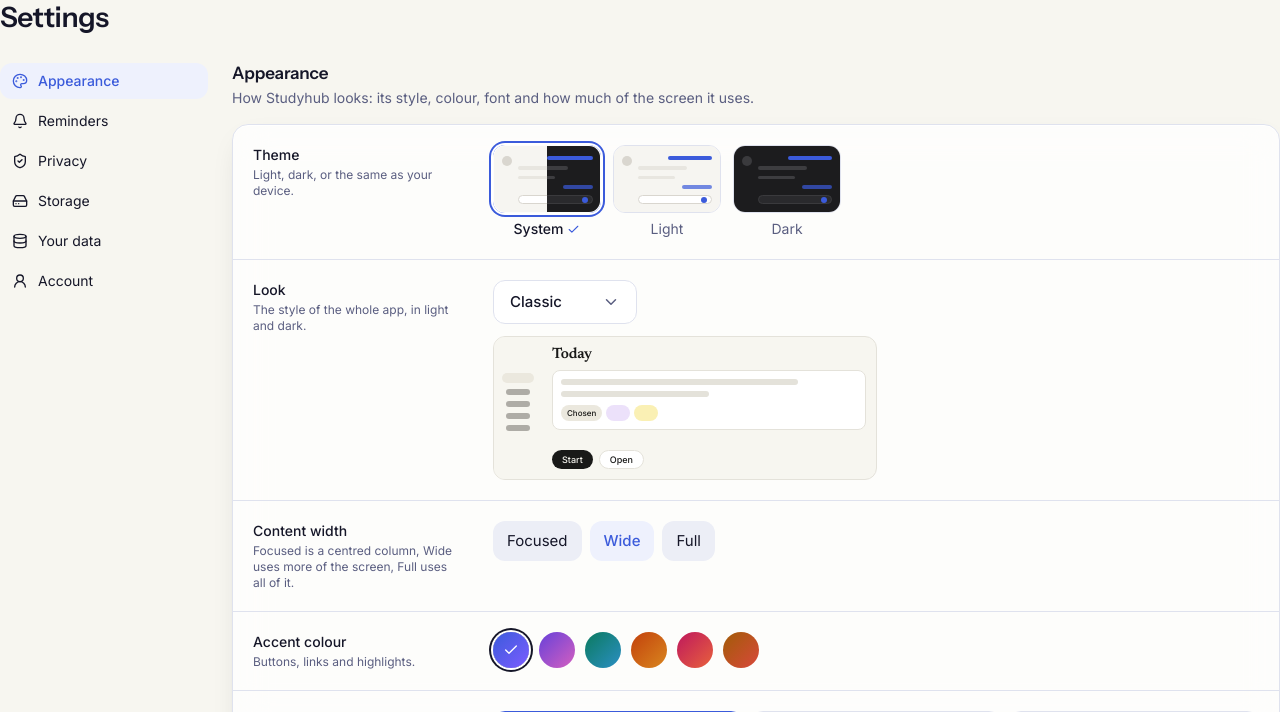
Settings page › has Your data with the download and delete options
The image size is (1280, 712).
Click the button "Your data". click: (104, 241)
box: [0,223,208,259]
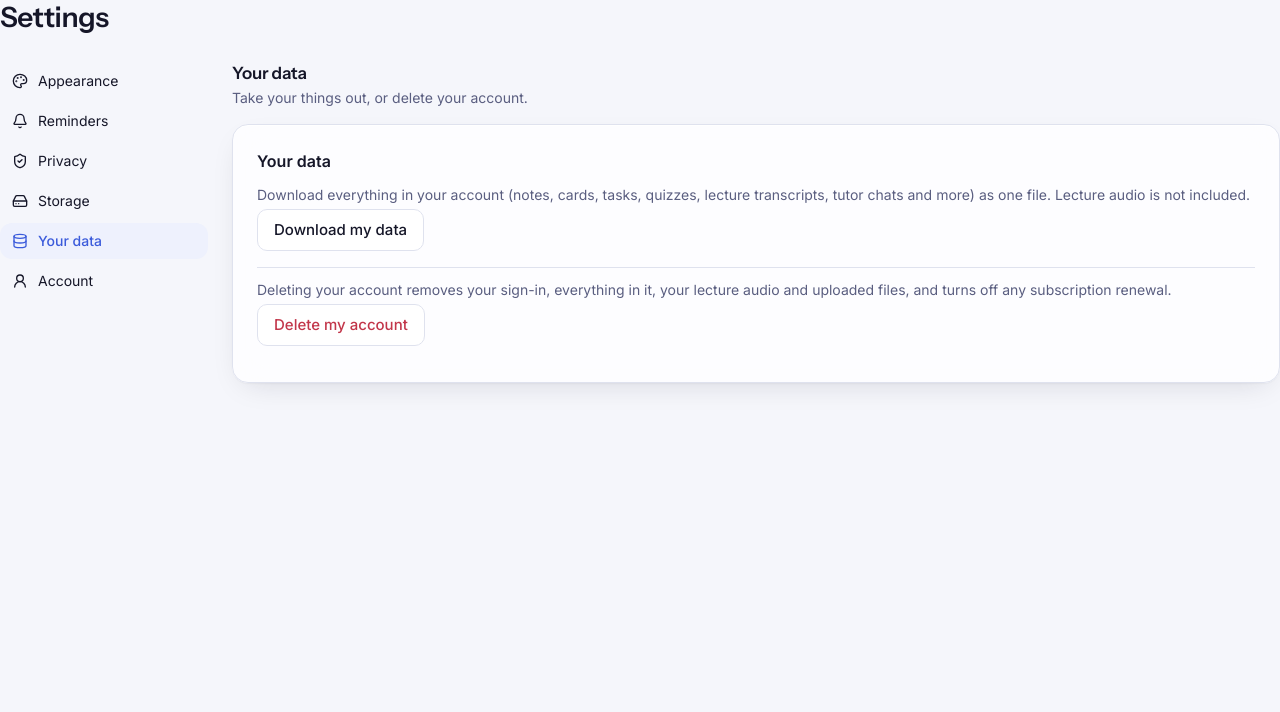
Expected: the button "Download my data" is shown, [257,209,424,251]
Expected: the button "Delete my account" is shown, [257,304,425,346]
